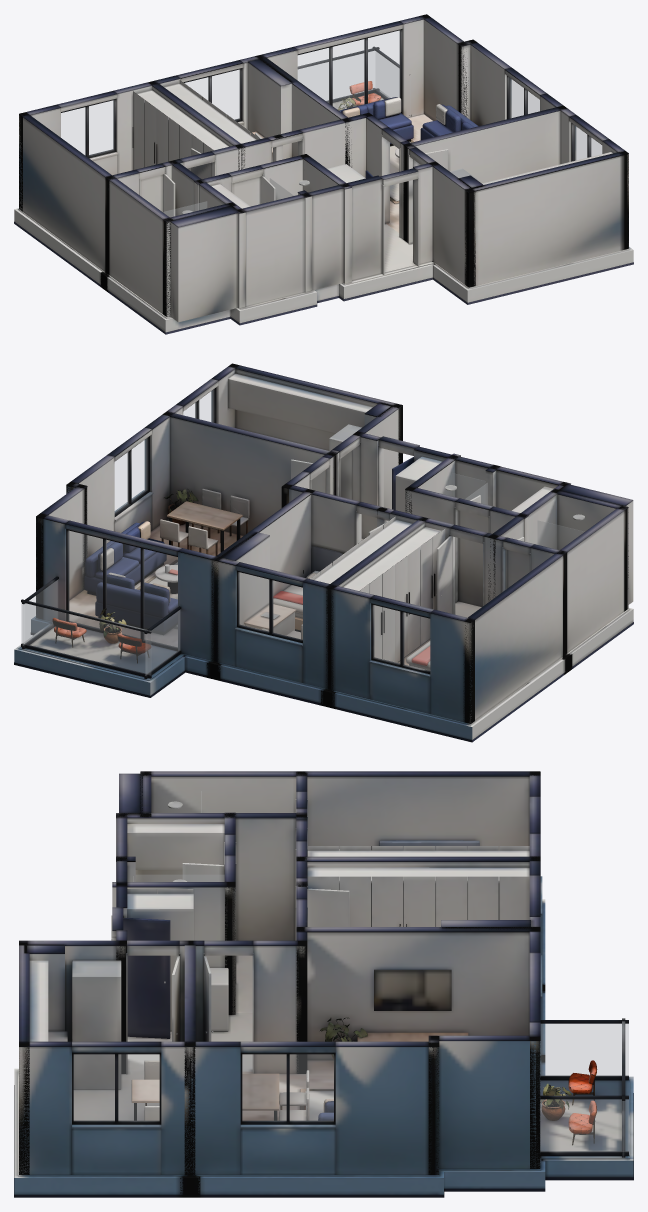
3 renders of one model, top to bottom at view 1: azimuth 30°, elevation 25°; view 2: azimuth 150°, elevation 25°; view 3: azimuth 270°, elevation 25°, orthographic. The views are drawn at different scales.
Visible parts, largest first — view 1: plan, glass2_m, glass0_m, railg0_m, glass1_m, railg4_m, glass3_m, glass4_m; view 2: plan, glass2_m, railg0_m, glass1_m, glass0_m, glass3_m, railg3_m, railg4_m, sg.002_m, sg.001_m, glass4_m; view 3: plan, glass3_m, glass4_m, railg4_m, railg3_m, sg_m.
Boxes of the visible parts, box(x1,y1,x2,y2) form: plan: box(14, 14, 633, 334); glass2_m: box(298, 31, 400, 110); glass0_m: box(61, 100, 114, 155); railg0_m: box(298, 51, 374, 100); glass1_m: box(185, 70, 240, 119); railg4_m: box(376, 52, 398, 97); glass3_m: box(509, 78, 539, 118); glass4_m: box(573, 125, 601, 160); plan: box(14, 363, 633, 742); glass2_m: box(68, 531, 177, 647); railg0_m: box(21, 603, 150, 674); glass1_m: box(239, 572, 302, 640); glass0_m: box(373, 605, 429, 671); glass3_m: box(115, 438, 147, 513); railg3_m: box(145, 610, 179, 675); railg4_m: box(23, 580, 57, 645); sg.002_m: box(537, 520, 584, 549); sg.001_m: box(453, 473, 485, 503); glass4_m: box(183, 390, 213, 422); plan: box(14, 771, 633, 1197); glass3_m: box(242, 1054, 333, 1121); glass4_m: box(74, 1054, 159, 1121); railg4_m: box(540, 1099, 628, 1151); railg3_m: box(540, 1024, 628, 1075); sg_m: box(136, 875, 224, 881).
Size of the model in its own units: 10.52 by 2.62 by 9.88.
2 materials, 1 textured.
